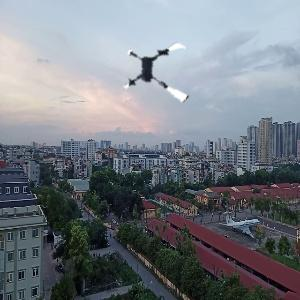drone: (123, 36, 199, 112)
